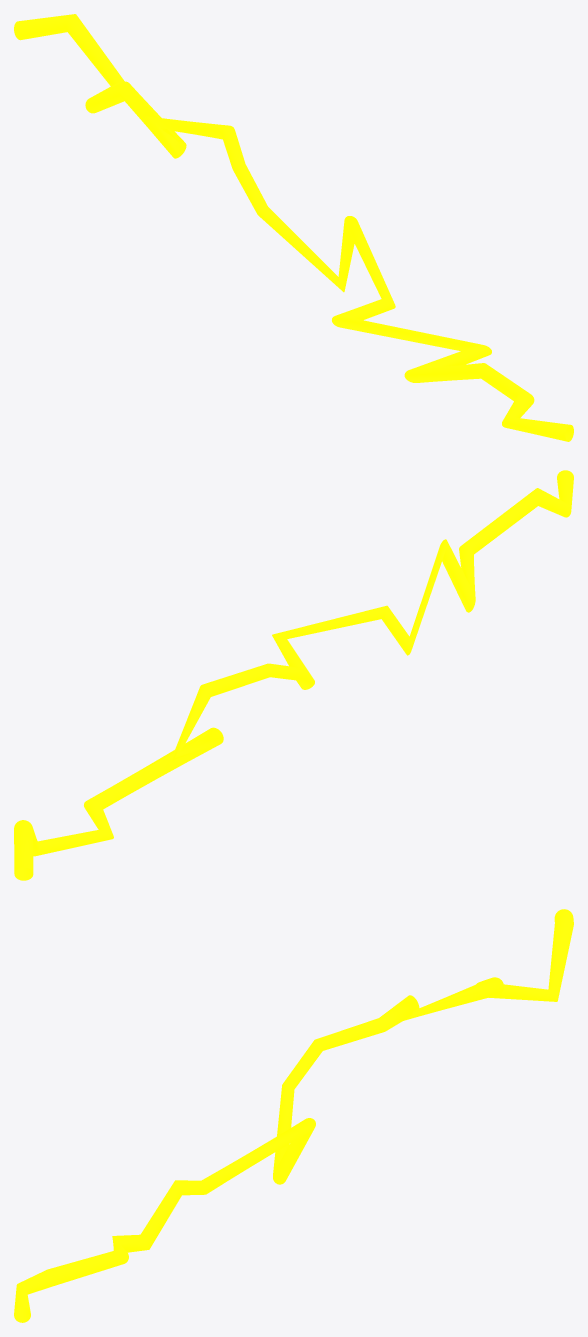
The model's file is Zeus_horizontal.fbx.
3 renders of one model, top to bottom at view 1: azimuth 30°, elevation 25°; view 2: azimuth 150°, elevation 25°; view 3: azimuth 330°, elevation 25°, orthographic.
Parts seen in each view (by area): view 1: Cube; view 2: Cube; view 3: Cube.
Part boxes in pixels (box(x1,y1,x2,y2)): Cube: box(14, 14, 573, 441); Cube: box(14, 470, 573, 880); Cube: box(14, 909, 573, 1322).
Size of the model in its own units: 193 by 175 by 2018.
